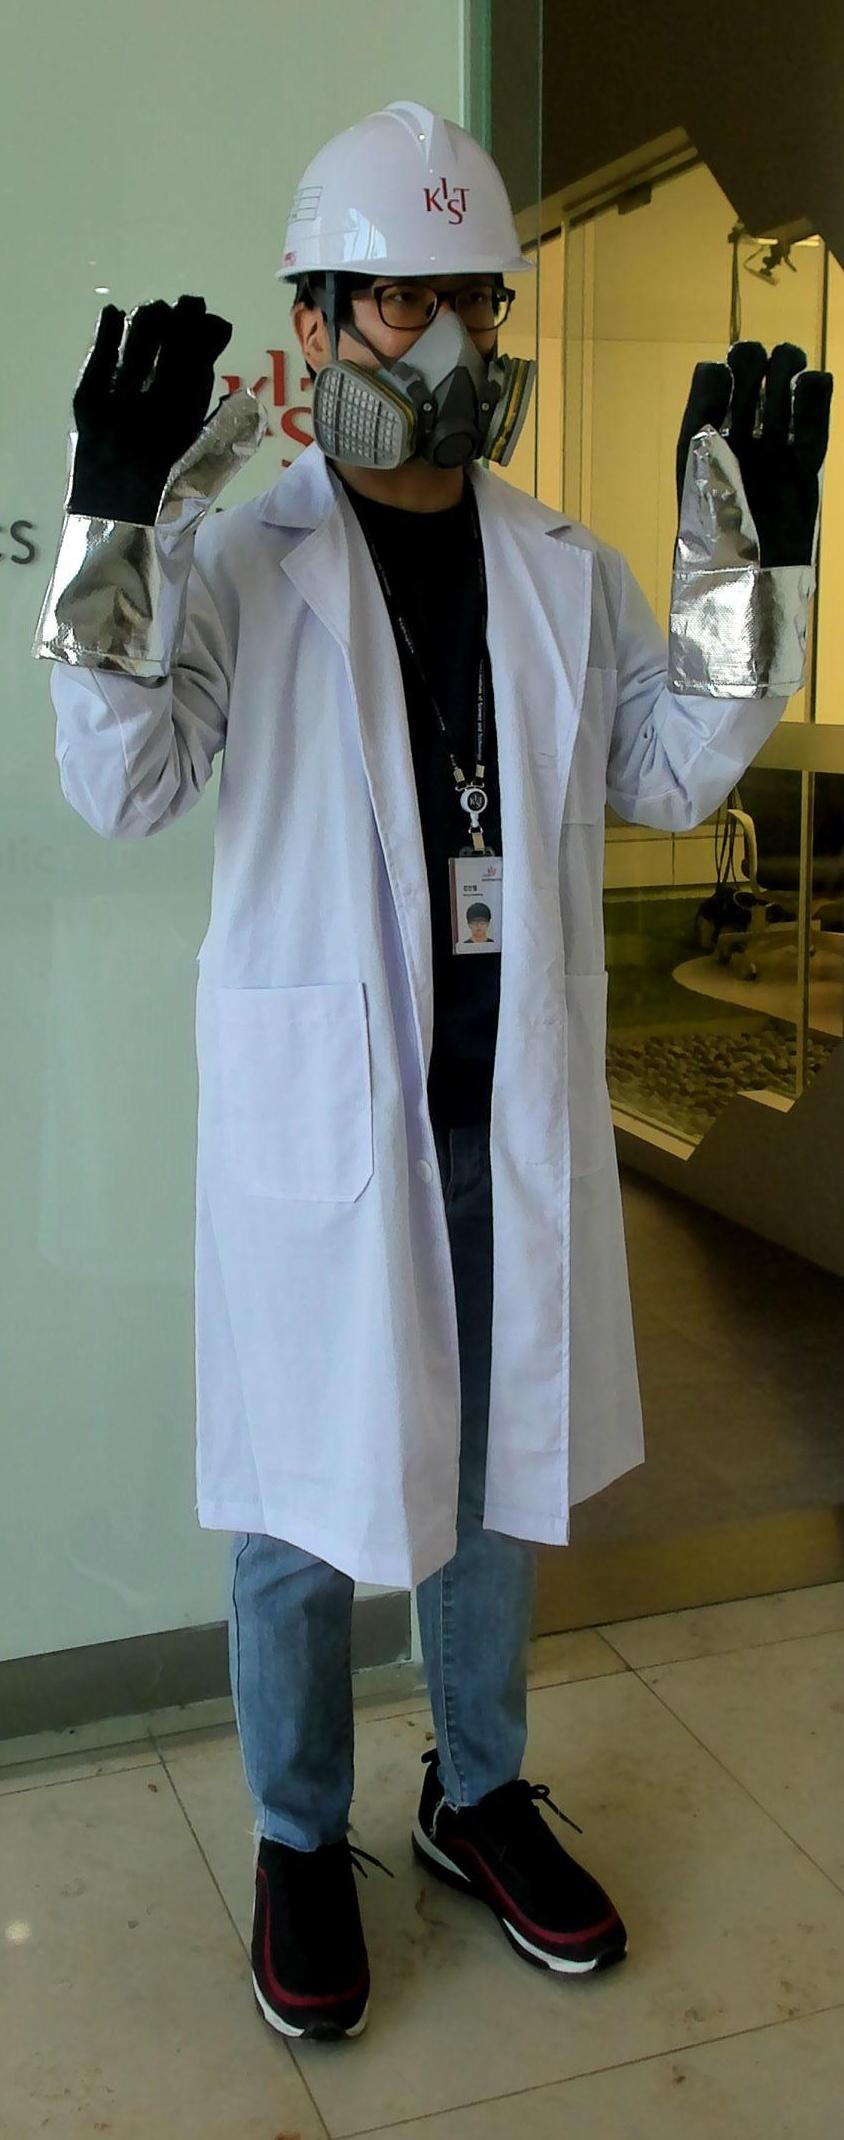lab_coat: (179, 510, 636, 1542)
